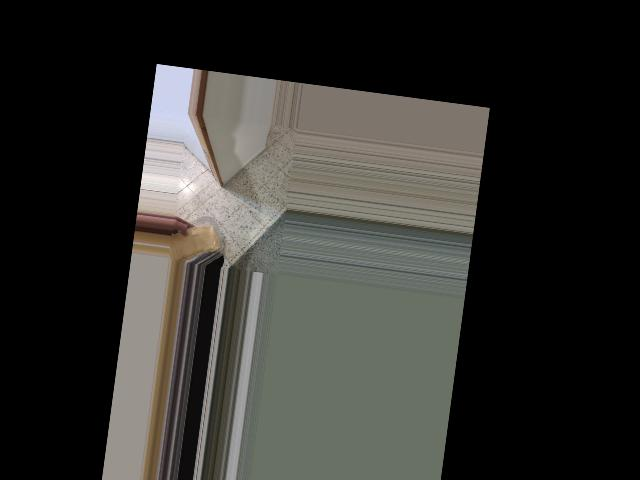cheese: (167, 212, 227, 268)
